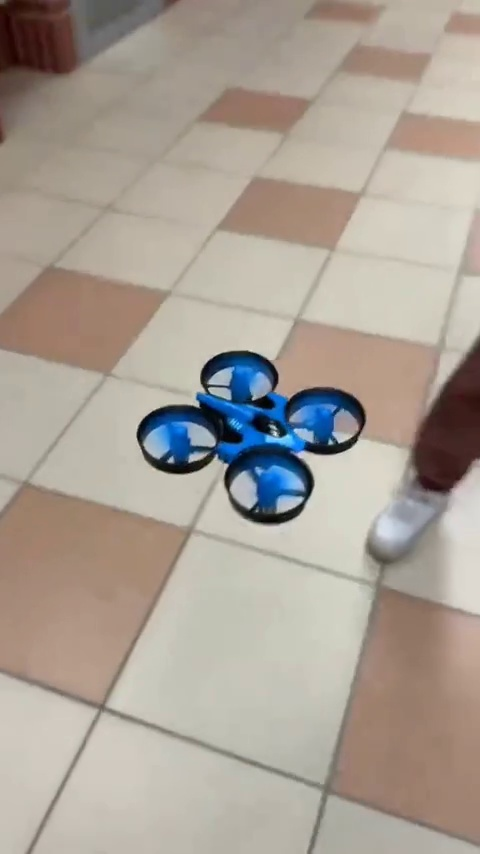drone: (137, 348, 369, 524)
